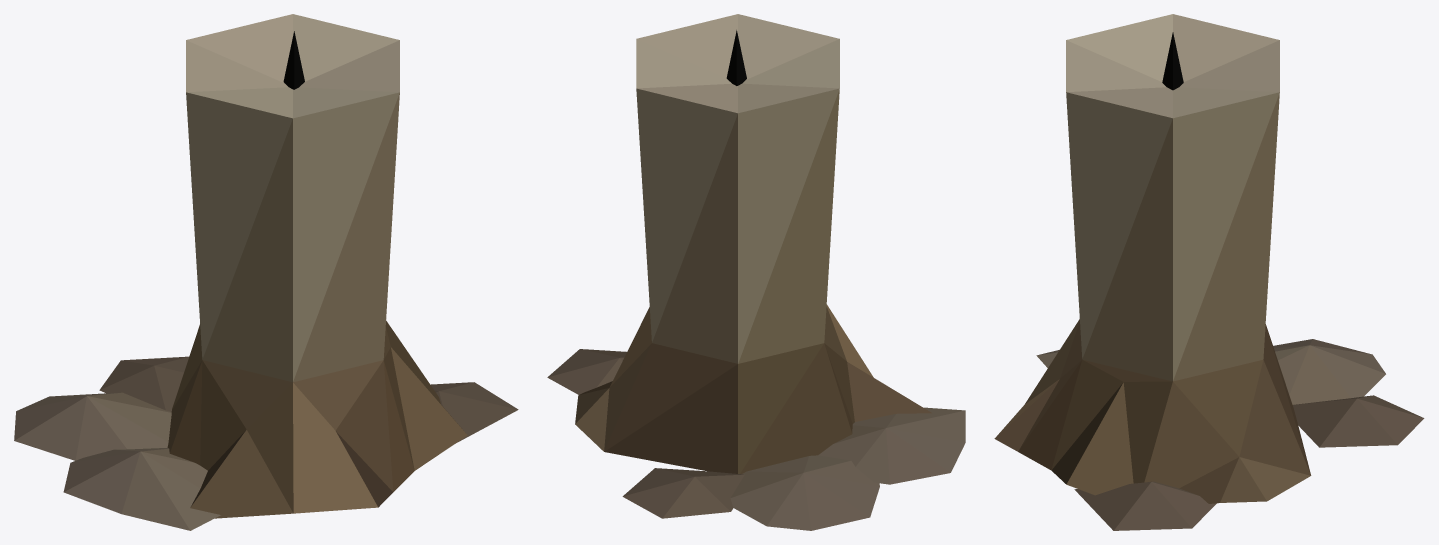
The model's file is prop_lighting_candle2.fbx.
The picture shows the model from 3 angles, left to right: view 1: azimuth 30°, elevation 25°; view 2: azimuth 150°, elevation 25°; view 3: azimuth 270°, elevation 25°; orthographic projection. The views are drawn at different scales.
Visible parts, largest first — view 1: prop_lighting_candle2; view 2: prop_lighting_candle2; view 3: prop_lighting_candle2.
Part boxes in pixels (box(x1,y1,x2,y2)): prop_lighting_candle2: box(14, 14, 518, 530); prop_lighting_candle2: box(547, 14, 965, 530); prop_lighting_candle2: box(994, 14, 1424, 530).
Bounding box in the file's own units: 0.4632 × 0.43 × 0.4086.
